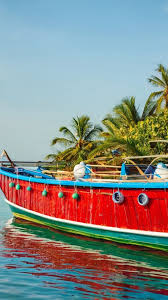boat: (1, 138, 168, 257)
